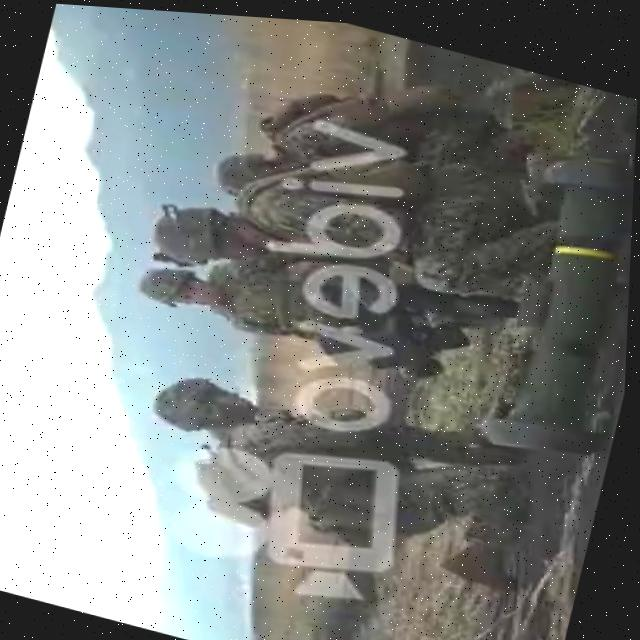rocket: (430, 114, 637, 466)
